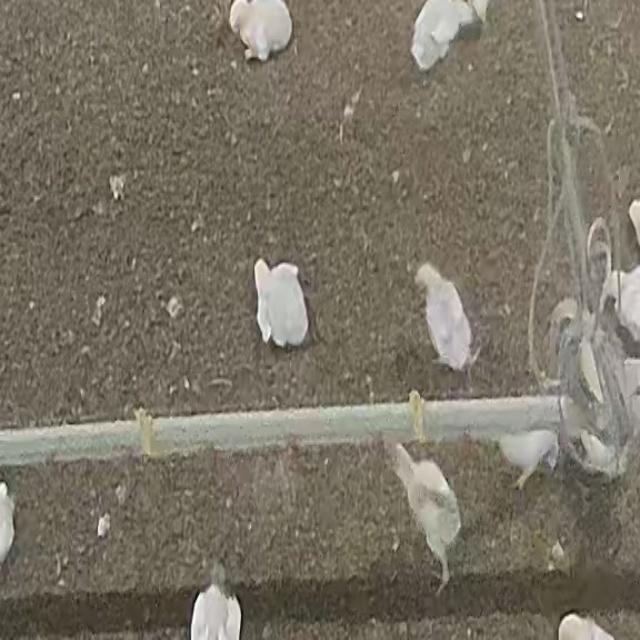chicken: (388, 441, 460, 597), (414, 260, 478, 386), (400, 0, 490, 69), (254, 259, 308, 350), (496, 429, 558, 492), (233, 0, 296, 61), (190, 572, 242, 640), (607, 259, 640, 337)
